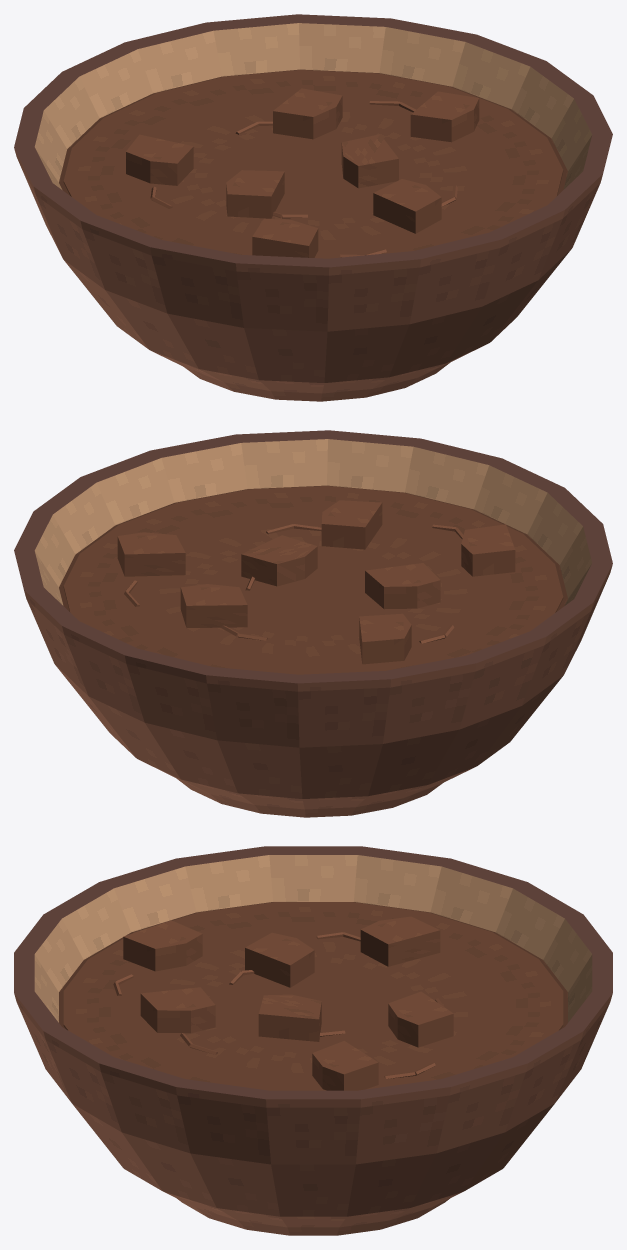
Rendered from soup_meat.glb.
The picture shows the model from 3 angles, top to bottom: view 1: azimuth 30°, elevation 25°; view 2: azimuth 150°, elevation 25°; view 3: azimuth 270°, elevation 25°; orthographic projection.
Visible parts, largest first — view 1: block_deep open soup bowl, block_soup surface, block_meat piece (×7), block_shaded liquid meniscus; view 2: block_deep open soup bowl, block_soup surface, block_meat piece (×7), block_shaded liquid meniscus; view 3: block_deep open soup bowl, block_soup surface, block_meat piece (×7), block_shaded liquid meniscus.
Part boxes in pixels (box(x1,y1,x2,y2)): block_deep open soup bowl: box(14, 14, 612, 401); block_soup surface: box(63, 70, 563, 258); block_meat piece (×7): box(126, 88, 479, 257); block_shaded liquid meniscus: box(59, 69, 567, 195); block_deep open soup bowl: box(14, 430, 612, 817); block_soup surface: box(63, 486, 563, 674); block_meat piece (×7): box(117, 500, 515, 664); block_shaded liquid meniscus: box(59, 485, 567, 611); block_deep open soup bowl: box(14, 846, 612, 1235); block_soup surface: box(63, 902, 563, 1090); block_meat piece (×7): box(123, 916, 453, 1090); block_shaded liquid meniscus: box(59, 902, 567, 1028).
Size of the model in its own units: 0.1437 by 0.0533 by 0.1437.
1 material, 1 textured.
